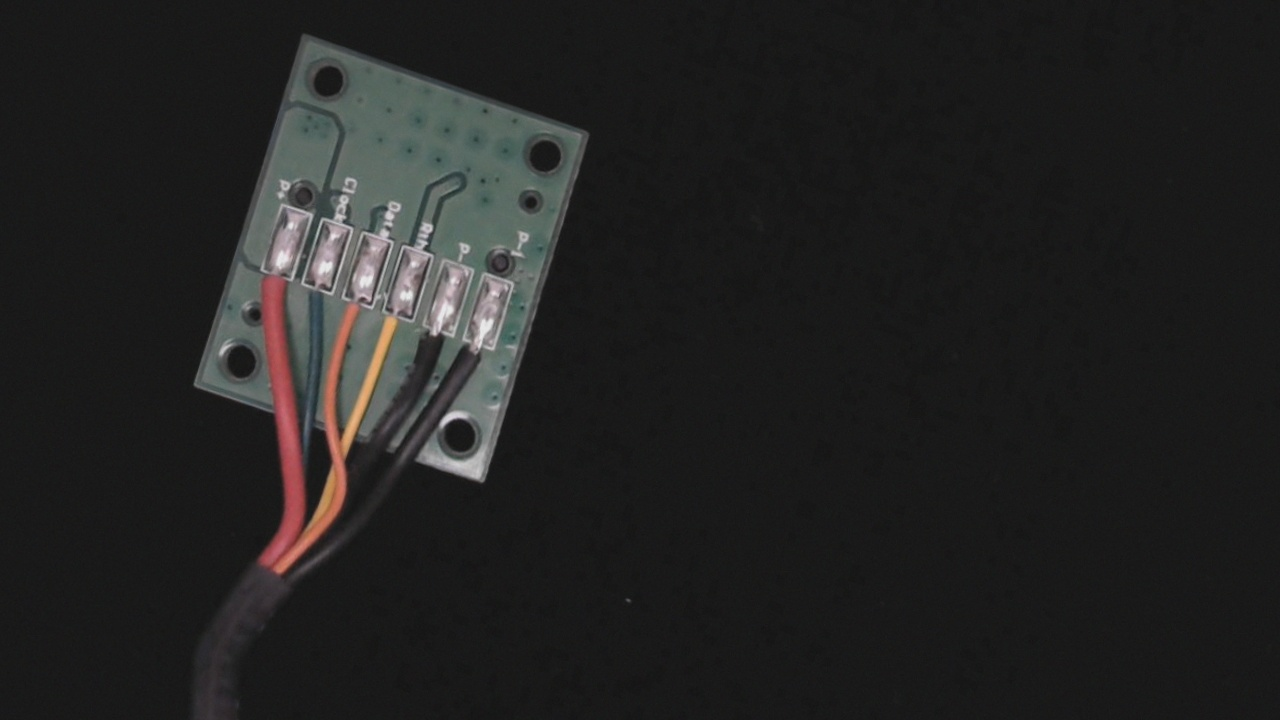Black: (404, 306, 459, 387)
Black1: (446, 322, 504, 405)
Green: (285, 259, 340, 337)
Orange: (326, 275, 379, 352)
Red: (241, 245, 301, 332)
Yellow: (365, 291, 418, 375)
